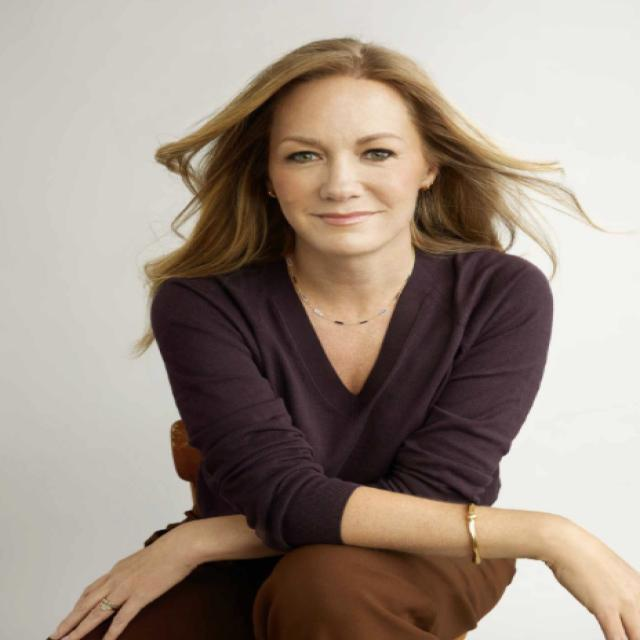happy: (240, 26, 463, 281)
